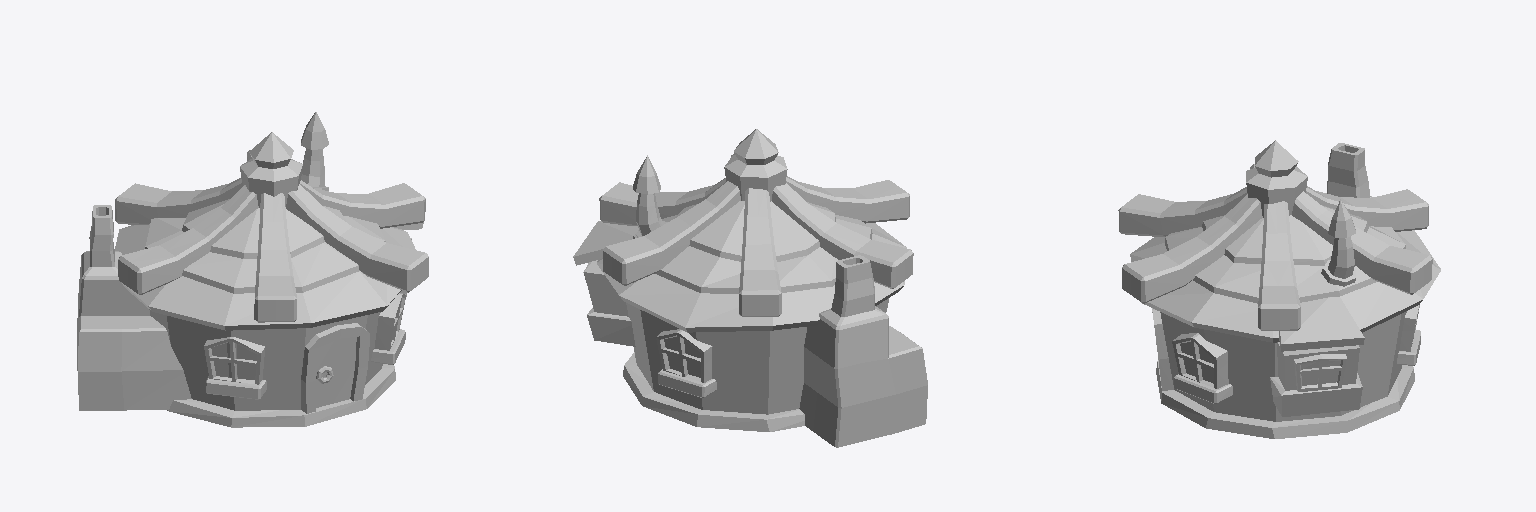
Rendered from house.obj.
3 renders of one model, left to right at view 1: azimuth 30°, elevation 25°; view 2: azimuth 150°, elevation 25°; view 3: azimuth 270°, elevation 25°, orthographic.
Visible parts, largest first — view 1: house.obj; view 2: house.obj; view 3: house.obj.
Part boxes in pixels (left/top/right/bottom): house.obj: left=77, top=112, right=428, bottom=427; house.obj: left=573, top=129, right=927, bottom=447; house.obj: left=1118, top=140, right=1440, bottom=438.
Bounding box in the file's own units: 3.35 × 2.32 × 2.77.